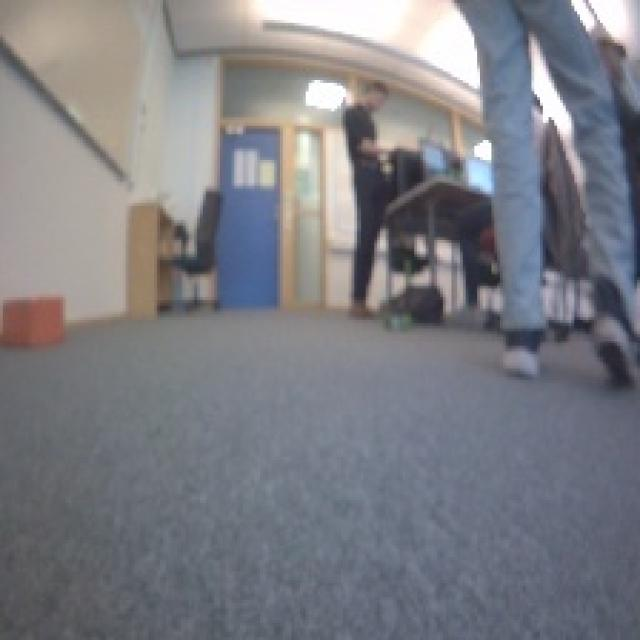robot: (384, 298, 412, 330)
target: (0, 291, 66, 346)
